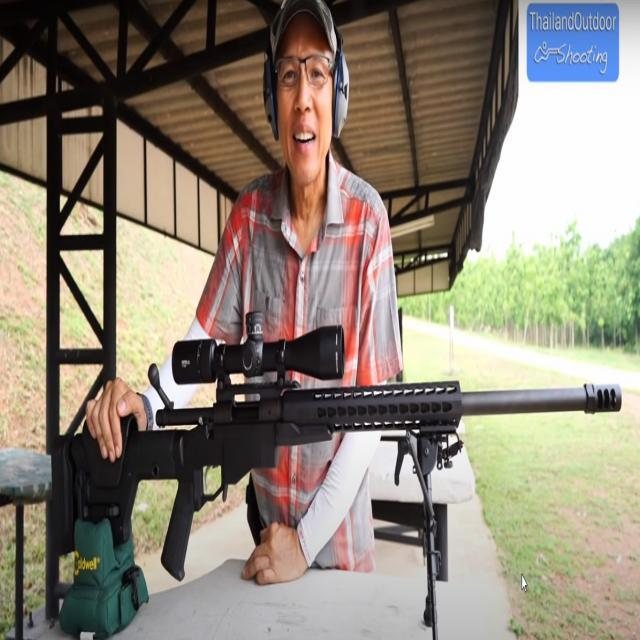rifle: (43, 298, 626, 636)
